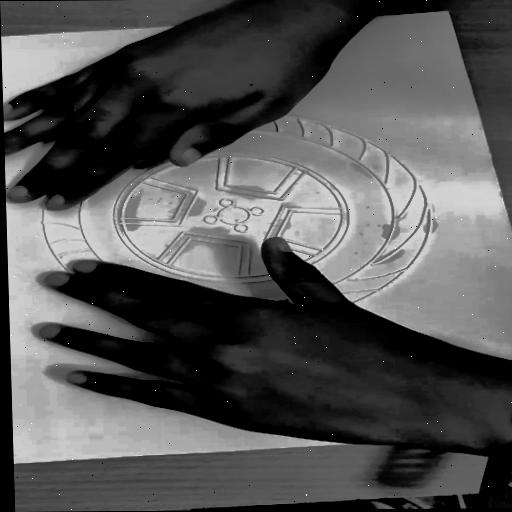bottom_right: (439, 6, 455, 15)
tire: (23, 85, 461, 343)
